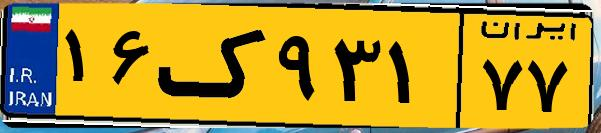1: (385, 28, 445, 110), (57, 26, 110, 100)
3: (330, 28, 385, 110)
6: (110, 28, 158, 98)
7: (475, 38, 525, 113), (525, 38, 570, 115)
9: (270, 28, 330, 110)
ک: (158, 12, 270, 120)
